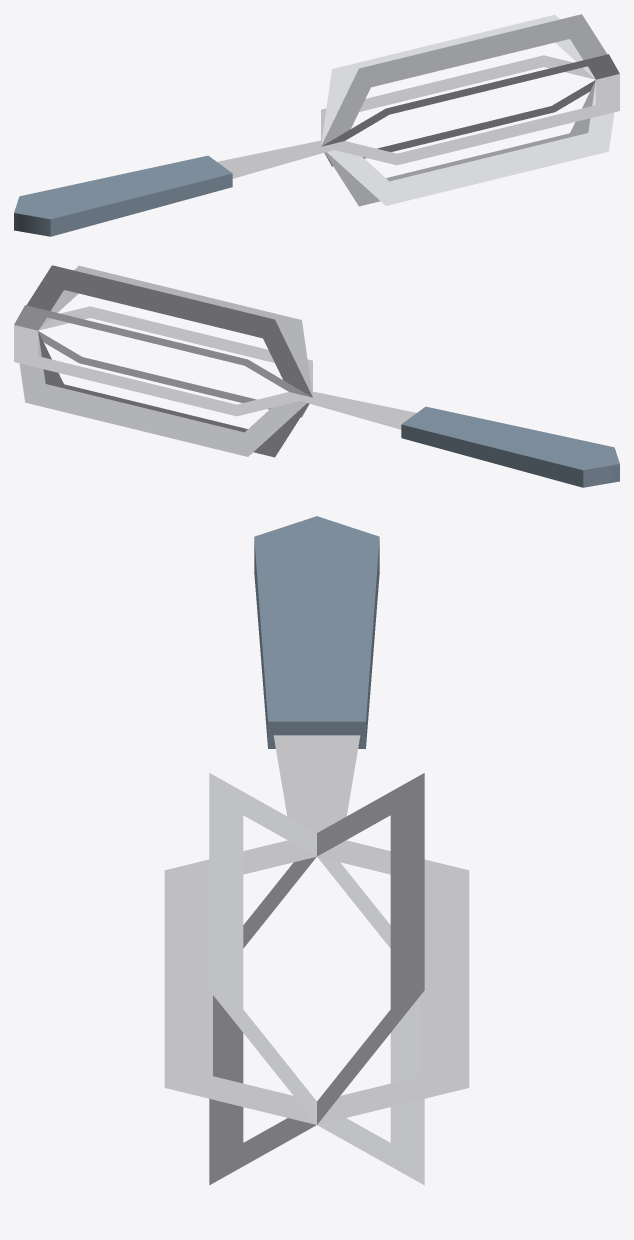
The model's file is whisk.dae.
3 views of the same model, one above another, from view 1: azimuth 30°, elevation 25°; view 2: azimuth 150°, elevation 25°; view 3: azimuth 270°, elevation 25° (orthographic). The views are drawn at different scales.
Parts seen in each view (by area): view 1: whisk; view 2: whisk; view 3: whisk.
Boxes of the visible parts, x1,y1,x2,y2 form: whisk: [14, 14, 619, 236]; whisk: [14, 265, 619, 487]; whisk: [164, 516, 469, 1185].
Size of the model in its own units: 0.7244 by 0.1576 by 0.1576.
